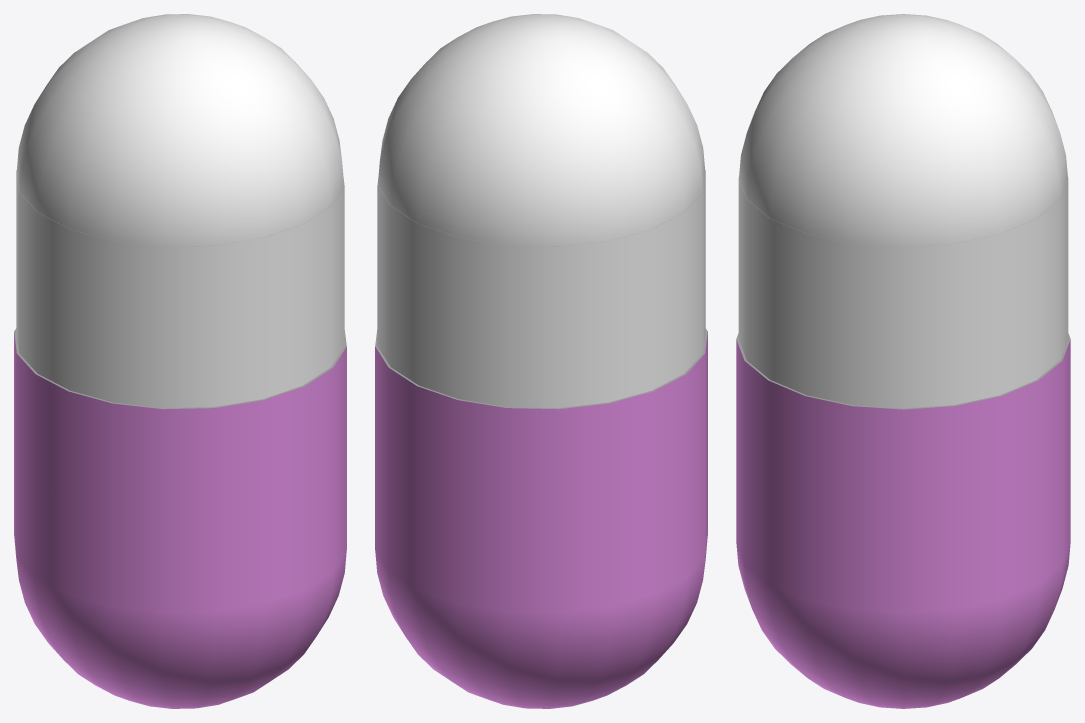
The model's file is jiaonang_7.fbx.
3 views of the same model, side by side, from view 1: azimuth 30°, elevation 25°; view 2: azimuth 150°, elevation 25°; view 3: azimuth 270°, elevation 25° (orthographic).
Visible parts, largest first — view 1: pCylinder3, pSphere2; view 2: pCylinder3, pSphere2; view 3: pCylinder3, pSphere2.
Boxes of the visible parts, left/top/right/bottom form: pCylinder3: left=16, top=14, right=344, bottom=408; pSphere2: left=14, top=328, right=346, bottom=708; pCylinder3: left=377, top=14, right=705, bottom=408; pSphere2: left=375, top=328, right=707, bottom=708; pCylinder3: left=738, top=14, right=1068, bottom=408; pSphere2: left=736, top=333, right=1070, bottom=708.
Size of the model in its own units: 2 by 4.38 by 2.
Materials: 2 (1 with a texture image).
